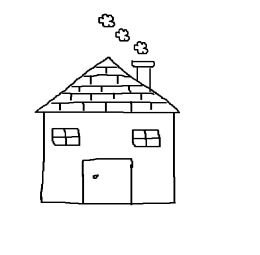closed_window: (49, 120, 87, 149), (121, 126, 164, 150)
door: (74, 153, 139, 208)
roof: (21, 55, 193, 120)
smoking_chimney: (93, 8, 182, 89)
wall: (29, 110, 183, 215)
